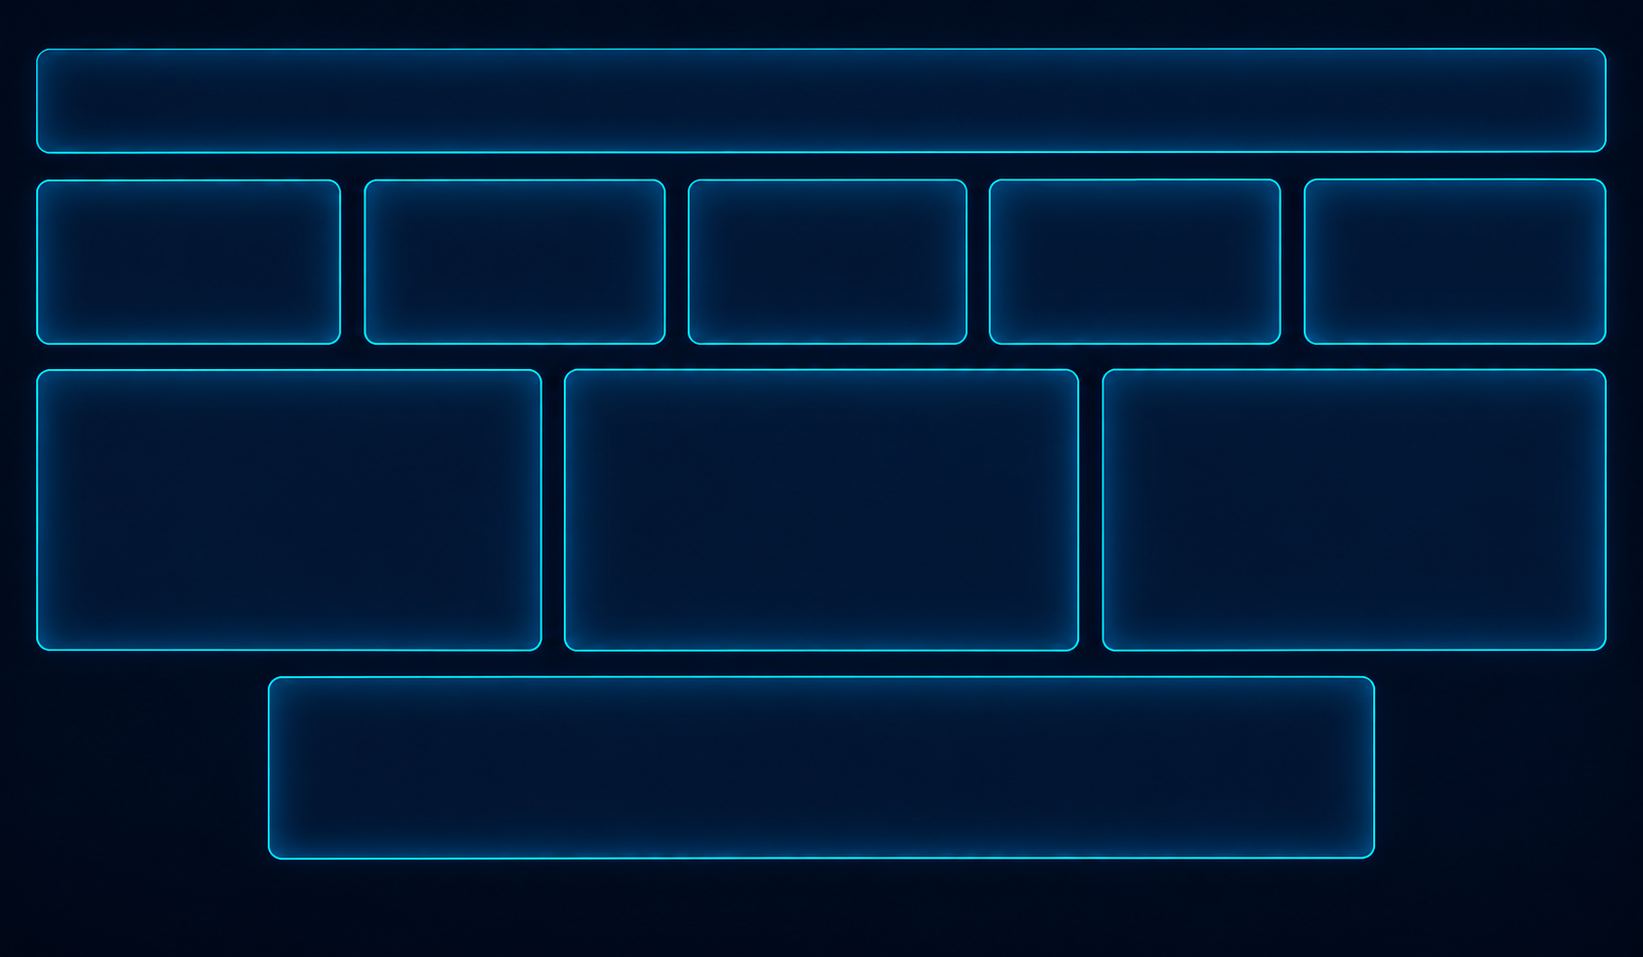

This screenshot's page, from the dashboard's own definition file:
{"tool":"powerbi","page":{"name":"Page 1","canvas":[1920,1080],"ordinal":0},"visuals":[{"type":"cardVisual","fields":{"Data":["Measure.Total Shipments"]},"box":[58.4,288,260,170],"z":0},{"type":"cardVisual","fields":{"Data":["Measure.On-Time Delivery Rate"]},"box":[352,288,282,170],"z":1000},{"type":"cardVisual","fields":{"Data":["Measure.Total Capital in Pipeline"]},"box":[676,288,262,170],"z":2000},{"type":"cardVisual","fields":{"Data":["Measure.Avg Customer Rating"]},"box":[984,288,260,170],"z":3000},{"type":"cardVisual","fields":{"Data":["Measure.Total Prior Purchases"]},"box":[1292,288,260,170],"z":4000},{"type":"cardVisual","fields":{"Data":["Measure.Total Support Calls"]},"box":[1610,288,260,170],"z":5000},{"type":"donutChart","title":"Overall Delivery Performance Breakdowns","fields":{"Category":["Fact_Shipment.Delivery Status"],"Y":["CountNonNull(Fact_Shipment.Delivery Status)"]},"box":[58,520,576,502],"z":6000},{"type":"clusteredColumnChart","title":"Warehouse Delivery Status","fields":{"Category":["Dim_Warehouse.Warehouse_block"],"Series":["Fact_Shipment.Delivery Status"],"Y":["Measure.Total Shipments"]},"box":[1292,520,578,502],"z":7000},{"type":"pivotTable","title":"Logistics by Priority","fields":{"Columns":["Dim_Product.Product_importance"],"Rows":["Fact_Shipment.Mode_of_Shipment"],"Values":["Measure.Total Shipments"]},"box":[676,520,568,502],"z":8000},{"type":"textbox","box":[18,50,1902,170],"z":8001}]}

Visuals, with their boxes in screenshot pixels (x1, y1, x2, y2):
cardVisual - Measure.Total Shipments: (25, 209, 253, 358)
cardVisual - Measure.On-Time Delivery Rate: (282, 209, 529, 358)
cardVisual - Measure.Total Capital in Pipeline: (566, 209, 795, 358)
cardVisual - Measure.Avg Customer Rating: (835, 209, 1063, 358)
cardVisual - Measure.Total Prior Purchases: (1105, 209, 1332, 358)
cardVisual - Measure.Total Support Calls: (1383, 209, 1610, 358)
"Overall Delivery Performance Breakdowns" donutChart: (25, 412, 529, 851)
"Warehouse Delivery Status" clusteredColumnChart: (1105, 412, 1610, 851)
"Logistics by Priority" pivotTable: (566, 412, 1063, 851)
textbox: (0, 1, 1642, 150)
